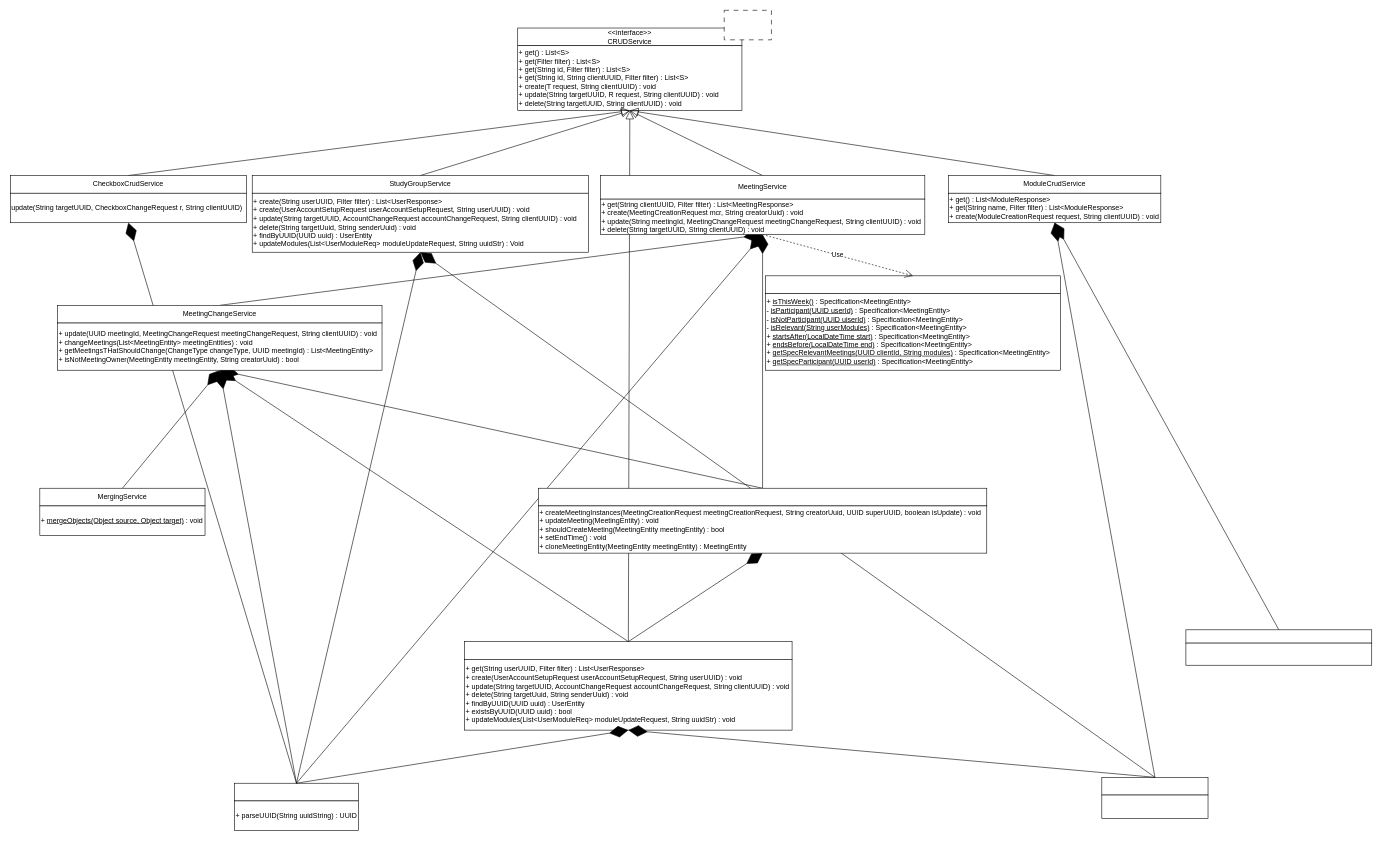
Some shapes in this 1382 by 841 pixel diagram are drawn without their labels. Here are the shapes that lost their labels. From the top down, the centre of each, then its label:
At (747,25): "T: CreationRequest, R: ChangeRequest, S: Response".
At (913,284): "MeetingSpecificationService".
At (762,497): "MeetingCreationService".
At (628,650): "UserService".
At (1278,636): "ModuleUtilService".
At (1278,654): "+ nomalizeModuleName(String moduleName) : void".
At (296,792): "UUIDService".
At (1154,786): "ModuleValidationService".
At (1154,806): "+ exists(String module) : bool".
